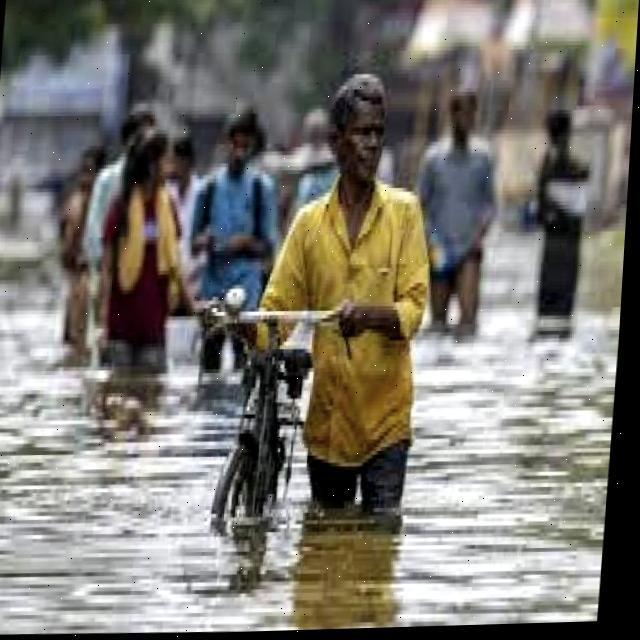civilian: (279, 61, 454, 540), (391, 76, 512, 340), (500, 105, 614, 365), (194, 101, 293, 373), (101, 120, 211, 363), (69, 98, 158, 341), (54, 147, 114, 295)
